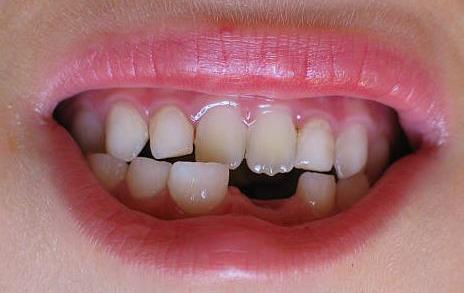Hypodontia: (222, 168, 309, 212)
